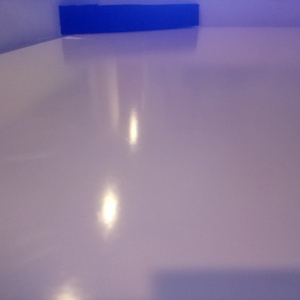zone: (58, 4, 200, 36)
